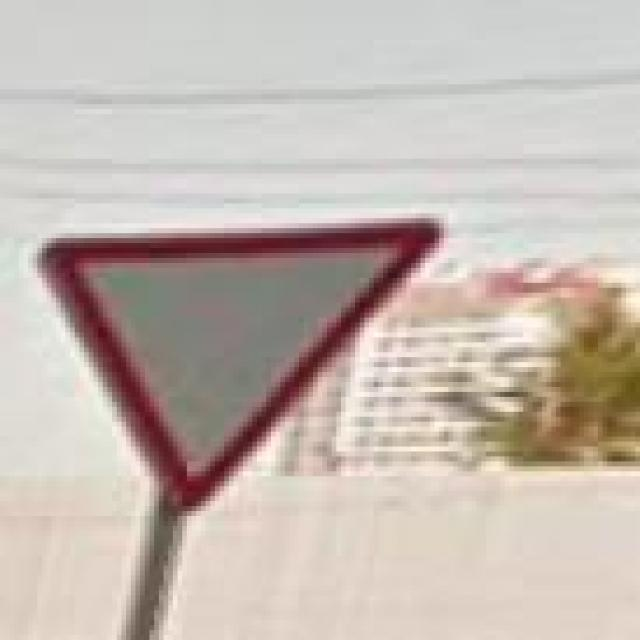traffic_sign: (37, 218, 439, 511)
